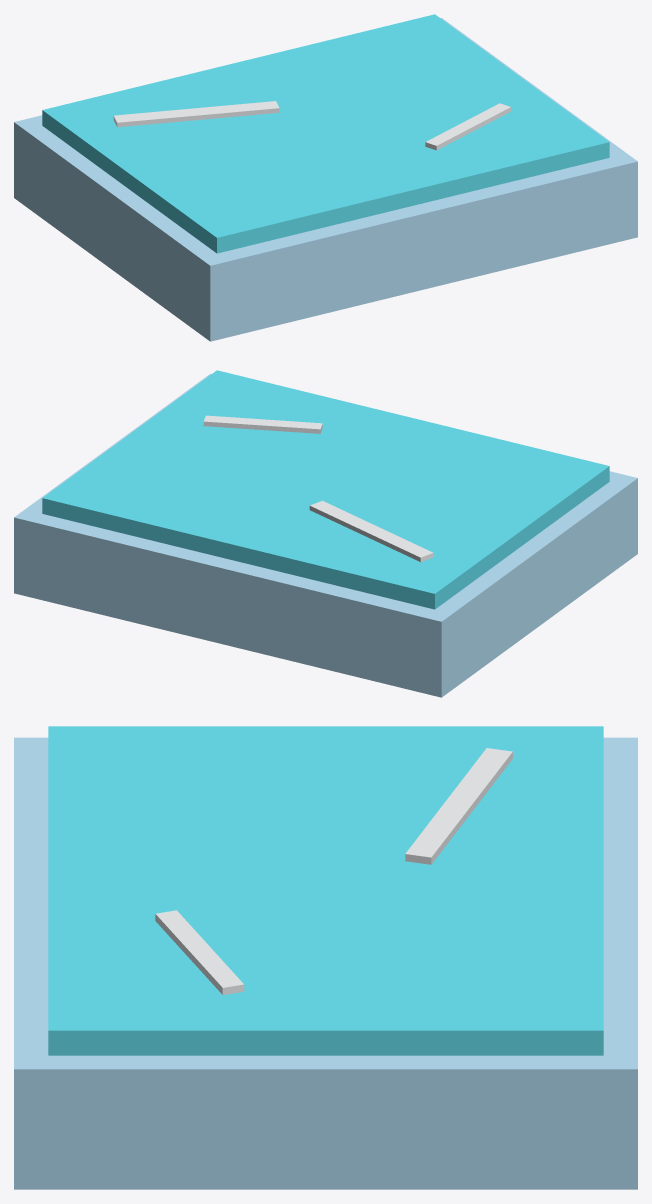
Rendered from toy_plastic_ice_block.glb.
3 renders of one model, top to bottom at view 1: azimuth 30°, elevation 25°; view 2: azimuth 150°, elevation 25°; view 3: azimuth 270°, elevation 25°, orthographic. The views are drawn at different scales.
Parts seen in each view (by area): view 1: solid_2, solid_1, solid_3, solid_4; view 2: solid_2, solid_1, solid_3, solid_4; view 3: solid_2, solid_1, solid_3, solid_4.
Boxes of the visible parts, x1=… form: solid_2: x1=42, y1=14, x2=609, y2=253; solid_1: x1=14, y1=18, x2=637, y2=341; solid_3: x1=113, y1=101, x2=279, y2=127; solid_4: x1=425, y1=103, x2=510, y2=150; solid_2: x1=42, y1=370, x2=609, y2=609; solid_1: x1=14, y1=374, x2=637, y2=697; solid_3: x1=309, y1=500, x2=433, y2=562; solid_4: x1=203, y1=415, x2=322, y2=433; solid_2: x1=48, y1=726, x2=603, y2=1055; solid_1: x1=14, y1=737, x2=637, y2=1189; solid_3: x1=405, y1=748, x2=512, y2=864; solid_4: x1=155, y1=910, x2=244, y2=994.
Bounding box in the file's own units: 3.42 × 0.7425 × 2.72.
